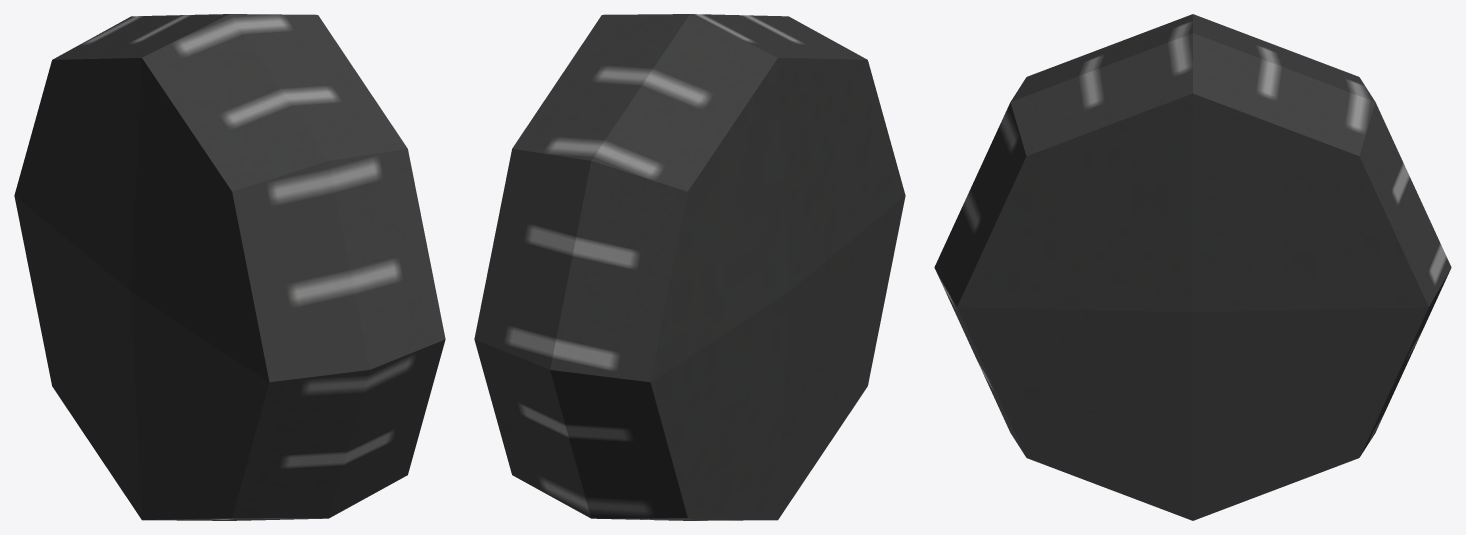
File: scroll_wheel.obj
3 views of the same model, side by side, from view 1: azimuth 30°, elevation 25°; view 2: azimuth 150°, elevation 25°; view 3: azimuth 270°, elevation 25° (orthographic). The views are drawn at different scales.
Parts seen in each view (by area): view 1: scroll_wheel_scroll_wheel_mesh; view 2: scroll_wheel_scroll_wheel_mesh; view 3: scroll_wheel_scroll_wheel_mesh.
Boxes of the visible parts, x1,y1,x2,y2 form: scroll_wheel_scroll_wheel_mesh: [14, 14, 445, 520]; scroll_wheel_scroll_wheel_mesh: [474, 14, 905, 520]; scroll_wheel_scroll_wheel_mesh: [934, 14, 1451, 520].
Size of the model in its own units: 0.00922 by 0.0225 by 0.0225.
1 material, 1 textured.
